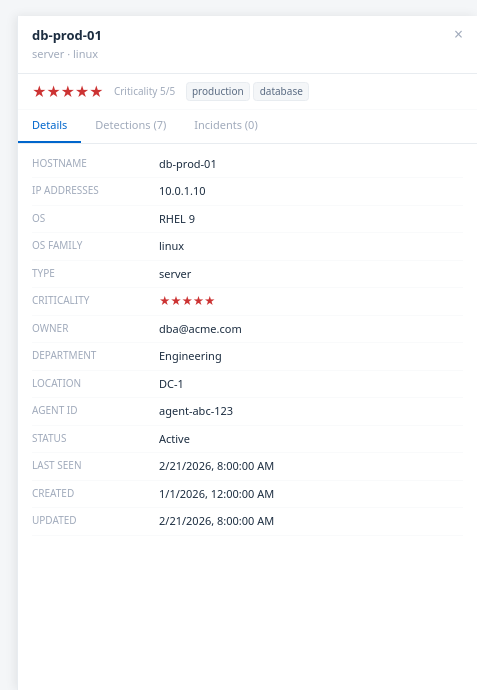
Test case: AssetPanel › Incidents tab › shows empty state when no incidents
This screenshot has width=477, height=690.
Click the button "Incidents (0)" at (226, 127), box [180, 110, 272, 143]
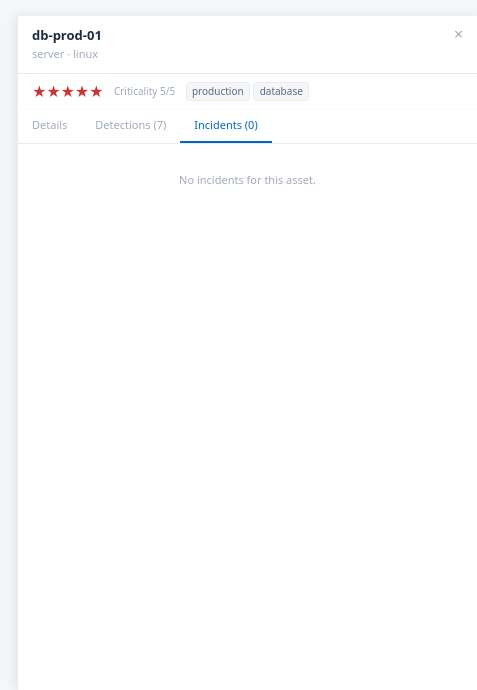
Check: the text "No incidents for this asset." is shown, box [179, 172, 316, 187]
